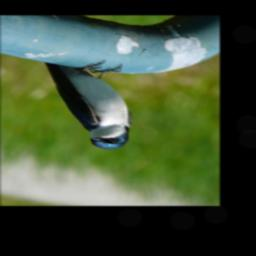Swallow: (45, 59, 135, 151)
